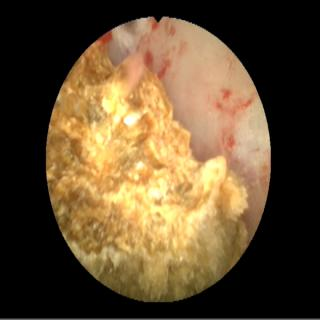stone: (49, 43, 248, 298)
tissue: (111, 20, 267, 231)
